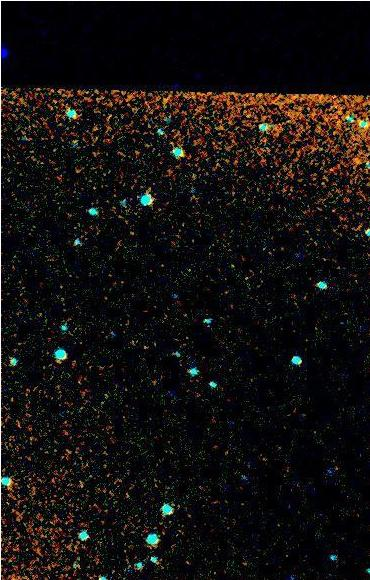star: (341, 144, 370, 174)
